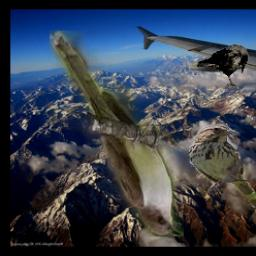Crow: (197, 45, 249, 90)
Cuckoo: (50, 31, 184, 237)
Sparrow: (189, 124, 256, 208)
